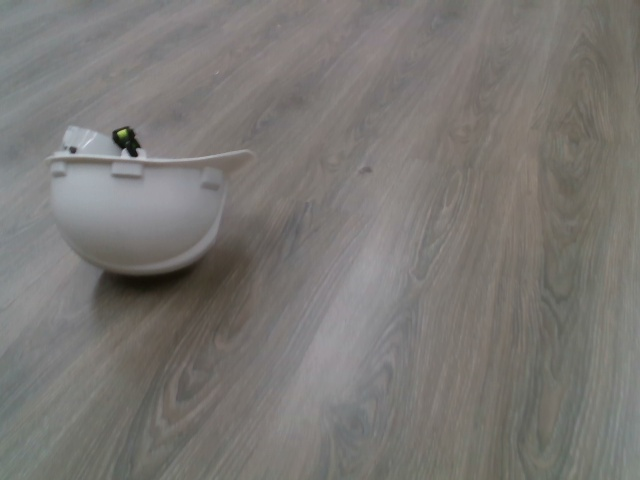helmet: (45, 123, 257, 280)
